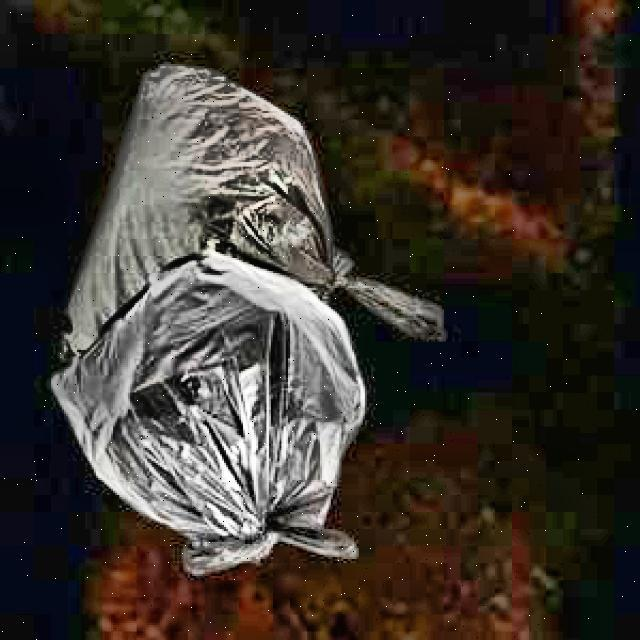Trashbag: (51, 244, 374, 587), (81, 52, 369, 292)
